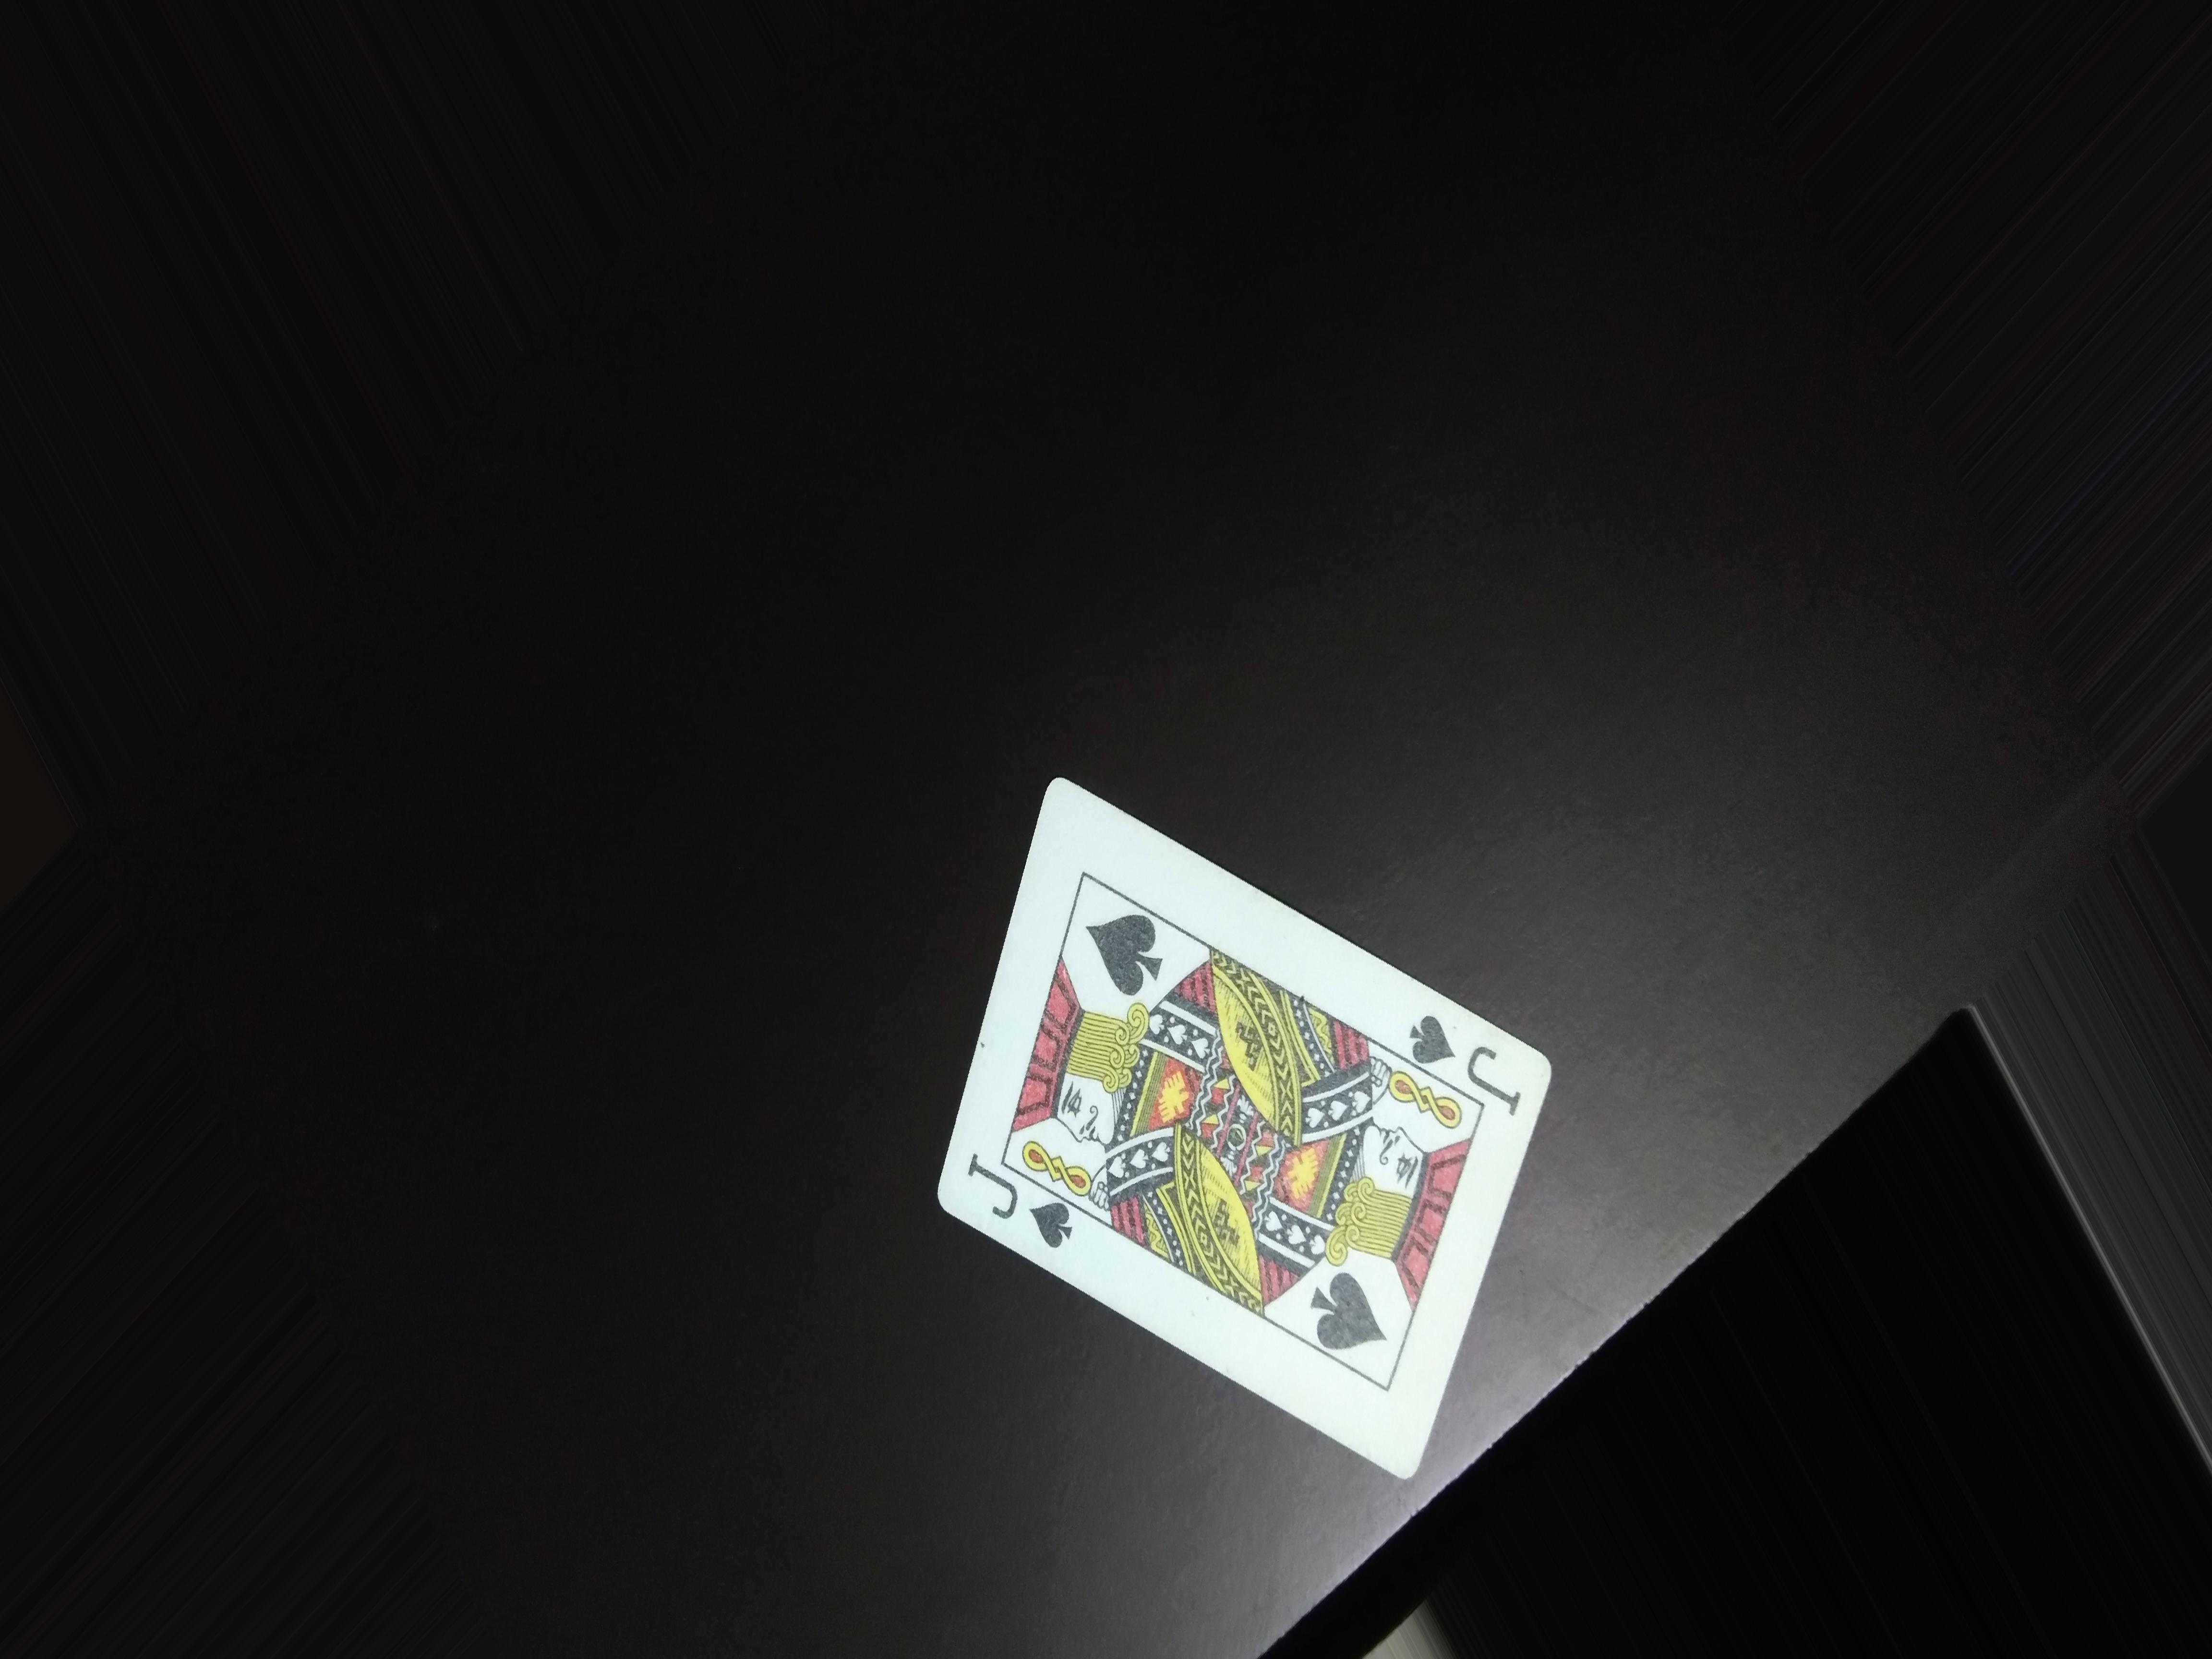JS: (1392, 1009, 1534, 1115)
